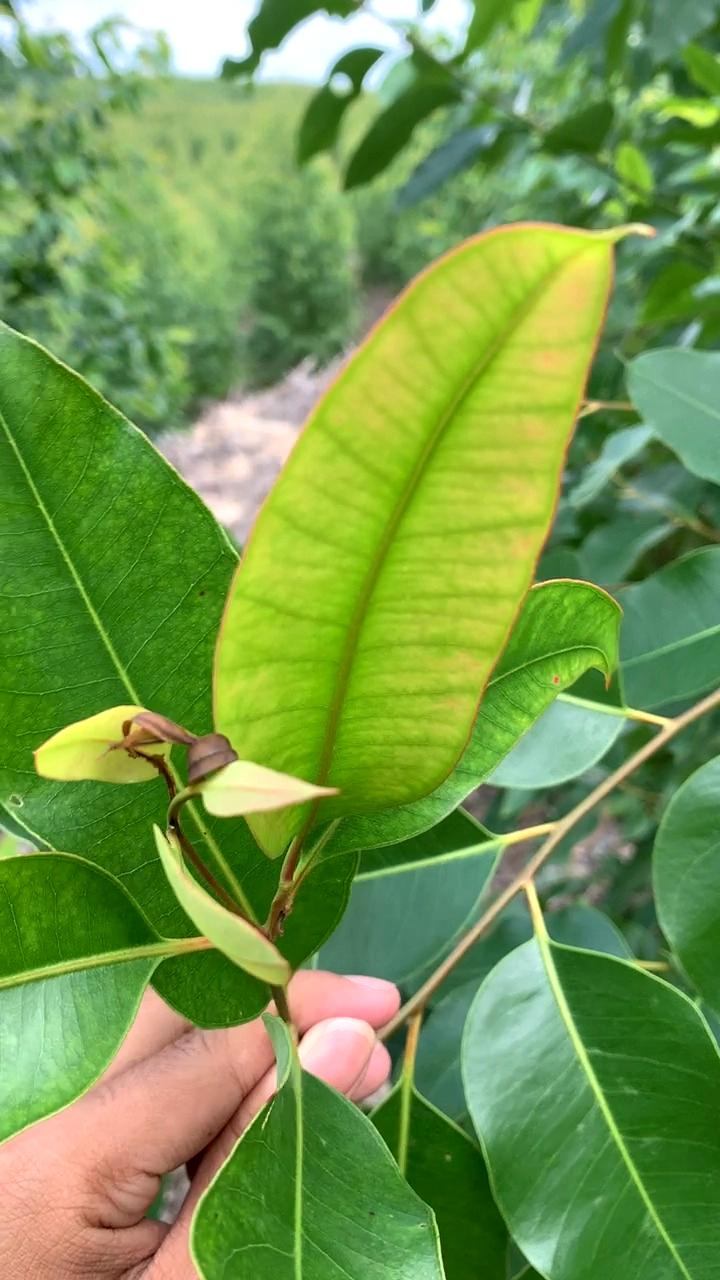Helopeltis-Withered Sprout: (108, 708, 243, 793)
